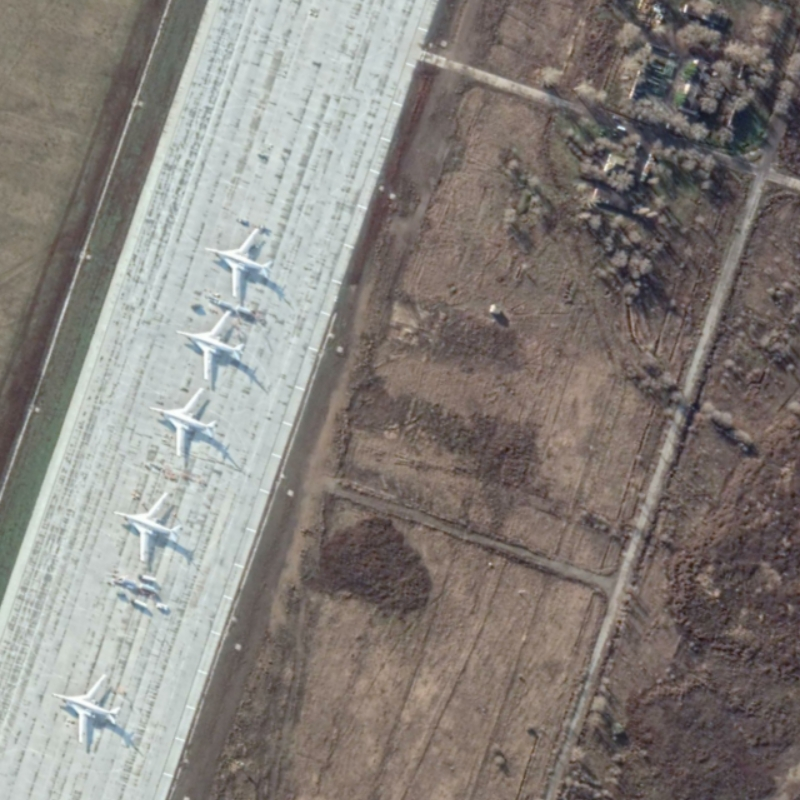A6: (107, 486, 189, 566), (143, 383, 222, 462), (169, 306, 249, 381), (48, 672, 125, 748), (202, 227, 278, 302)
